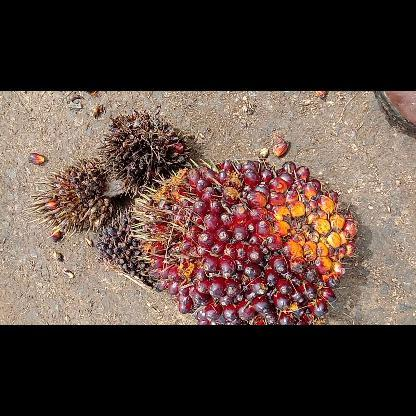TBS abnormal: (20, 157, 124, 241), (96, 110, 196, 188), (96, 206, 158, 290)
TBS masak: (125, 156, 360, 324)
